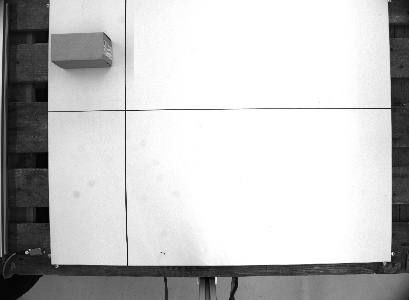b2: (49, 31, 114, 70)
